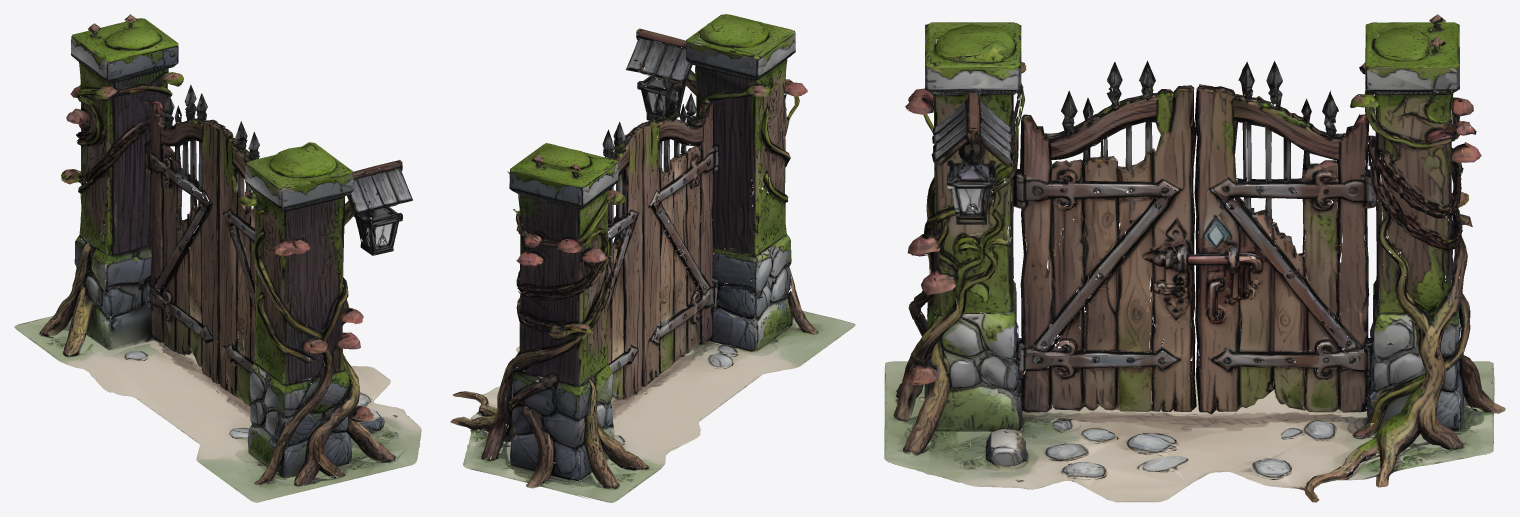
File: PastureGate.fbx
3 views of the same model, side by side, from view 1: azimuth 30°, elevation 25°; view 2: azimuth 150°, elevation 25°; view 3: azimuth 270°, elevation 25° (orthographic). The views are drawn at different scales.
Parts seen in each view (by area): view 1: GatePostStart, GatePostEnd, GateGround, GateLeafEnd, GateLeafStart; view 2: GatePostEnd, GatePostStart, GateLeafStart, GateGround, GateLeafEnd; view 3: GatePostStart, GatePostEnd, GateLeafStart, GateLeafEnd, GateGround.
Part boxes in pixels (x1,y1,x2,y2): GatePostStart: (196,142,421,502); GatePostEnd: (14,14,241,372); GateGround: (84,310,390,450); GateLeafEnd: (159,84,225,357); GateLeafStart: (219,121,269,372); GatePostEnd: (450,143,668,502); GatePostStart: (626,14,855,373); GateLeafStart: (637,83,703,364); GateGround: (452,318,771,454); GateLeafEnd: (602,122,645,378); GatePostStart: (884,22,1071,489); GatePostEnd: (1278,14,1505,487); GateLeafStart: (1047,60,1194,382); GateLeafEnd: (1187,61,1342,384); GateGround: (1031,362,1361,502).
Size of the model in its own units: 106 by 135 by 197.
1 material, 1 textured.
